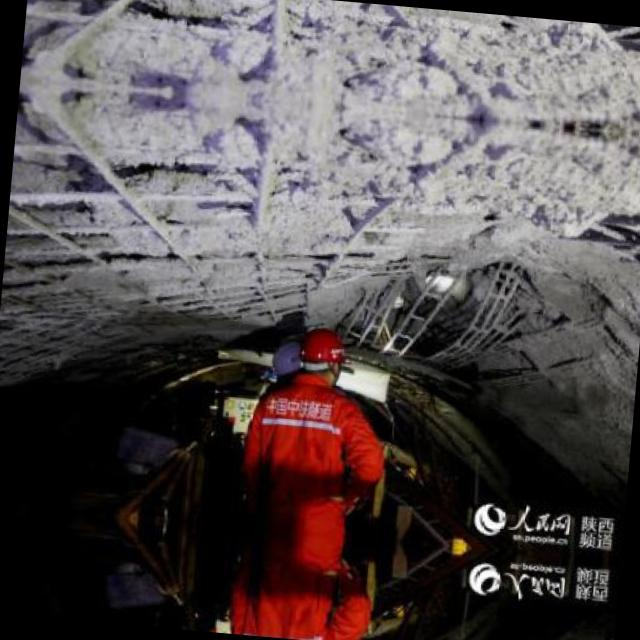helmet: (290, 324, 350, 384)
